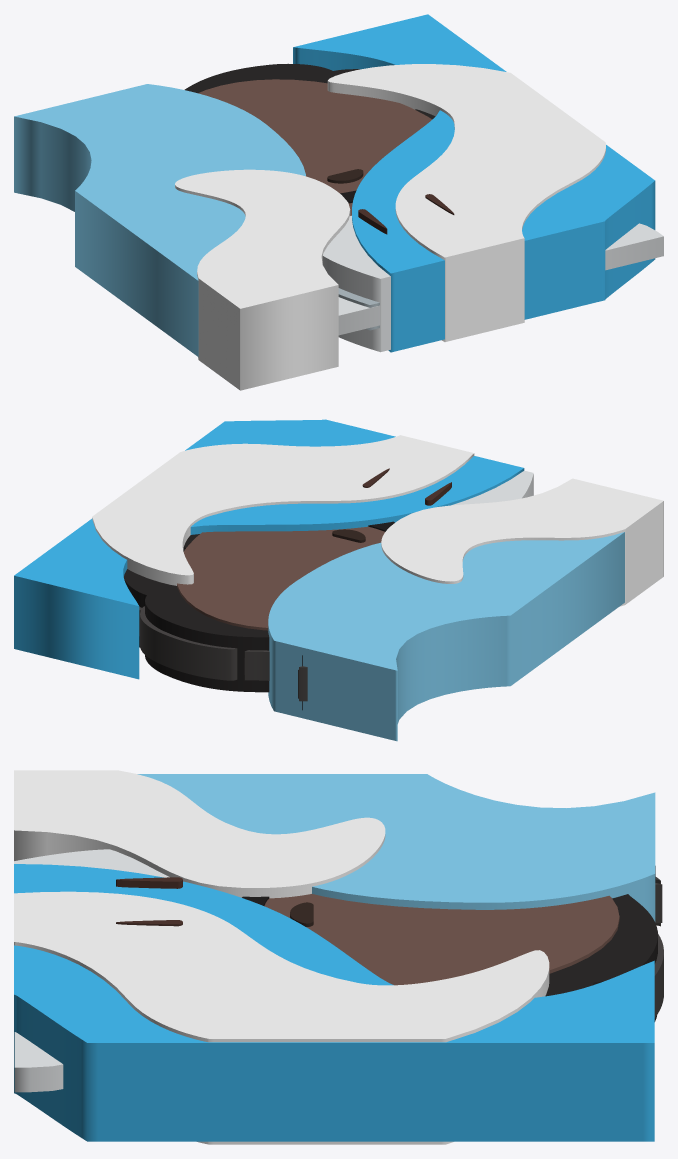
Rendered from emoji_u1f9d6_1f3ff.glb.
The picture shows the model from 3 angles, top to bottom: view 1: azimuth 30°, elevation 25°; view 2: azimuth 150°, elevation 25°; view 3: azimuth 270°, elevation 25°; orthographic projection. The views are drawn at different scales.
Visible parts, largest first — view 1: emoji_u1f9d6_1f3ff; view 2: emoji_u1f9d6_1f3ff; view 3: emoji_u1f9d6_1f3ff.
Boxes of the visible parts, x1=… form: emoji_u1f9d6_1f3ff: x1=14, y1=14, x2=663, y2=390; emoji_u1f9d6_1f3ff: x1=14, y1=419, x2=663, y2=741; emoji_u1f9d6_1f3ff: x1=14, y1=770, x2=663, y2=1144.
Bounding box in the file's own units: 0.033 × 0.0064 × 0.0334.
